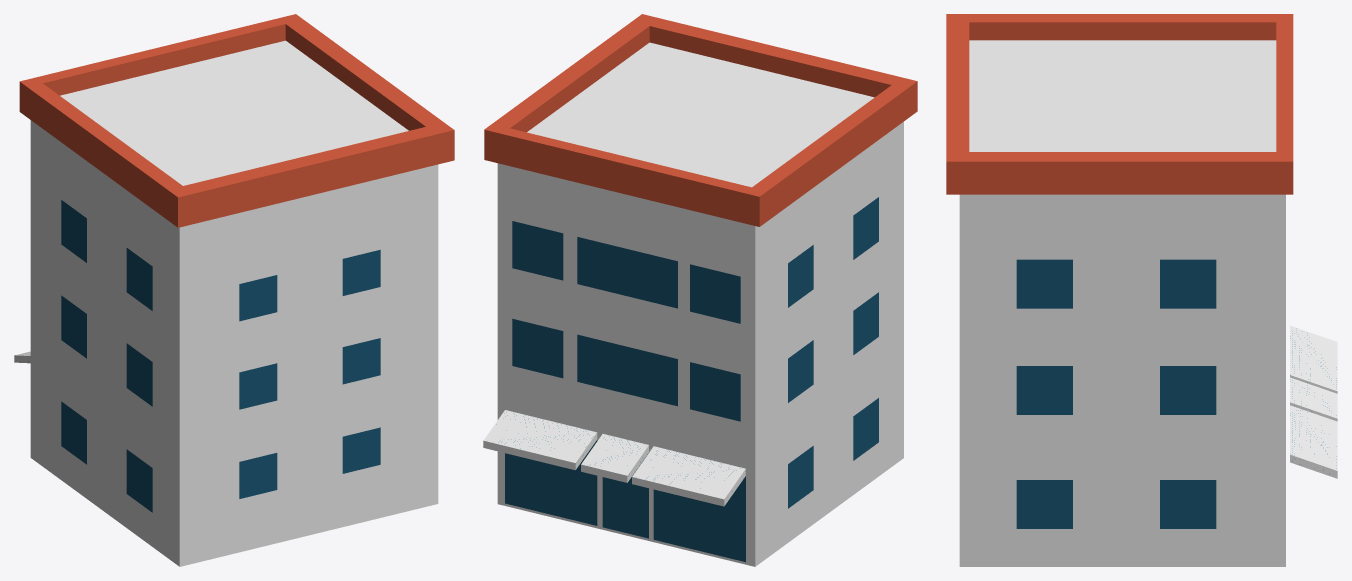
File: building_small_red.glb
3 renders of one model, left to right at view 1: azimuth 30°, elevation 25°; view 2: azimuth 150°, elevation 25°; view 3: azimuth 270°, elevation 25°, orthographic. The views are drawn at different scales.
Visible parts, largest first — view 1: building_small; view 2: building_small; view 3: building_small.
Part boxes in pixels (bbox=[...]): building_small: bbox=[14, 14, 454, 566]; building_small: bbox=[483, 14, 917, 566]; building_small: bbox=[946, 14, 1337, 566].
Size of the model in its own units: 11.48 by 14.91 by 12.87.
1 material, 1 textured.
